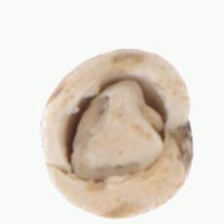L3: (63, 75, 166, 183)
L4: (41, 47, 194, 218)
